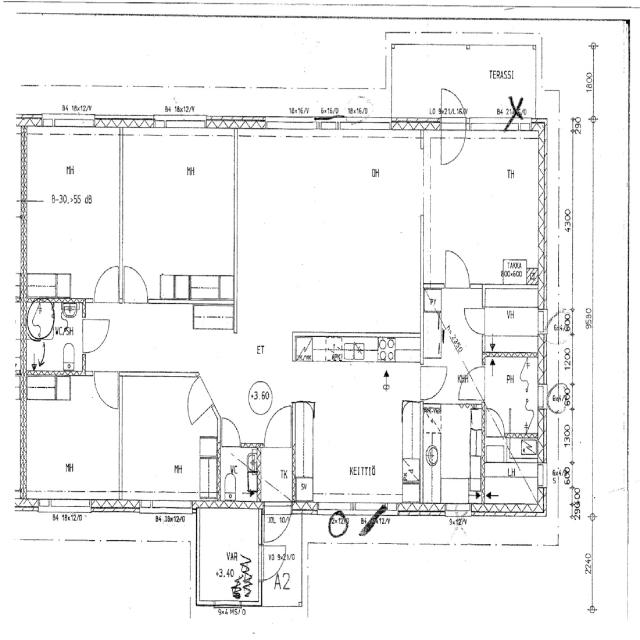door: (261, 400, 296, 452), (184, 372, 214, 426), (441, 245, 473, 291), (80, 313, 113, 357), (91, 260, 121, 306), (439, 116, 466, 167), (262, 501, 292, 544), (92, 368, 121, 412), (419, 362, 450, 401), (122, 261, 150, 304), (439, 84, 467, 122), (260, 542, 286, 582), (218, 412, 242, 450), (445, 505, 471, 539), (462, 303, 487, 336)
window: (265, 112, 317, 134), (38, 494, 90, 514), (468, 116, 509, 141), (159, 115, 203, 136), (49, 115, 94, 135), (445, 505, 472, 537), (339, 117, 392, 131)
zone: (234, 124, 423, 330), (295, 335, 420, 506), (119, 129, 238, 302), (423, 122, 544, 286), (22, 124, 122, 300), (118, 376, 219, 498), (23, 373, 120, 500), (485, 351, 543, 509), (422, 286, 488, 400), (422, 402, 484, 508), (195, 506, 262, 604), (24, 296, 84, 374), (482, 286, 541, 352), (218, 446, 260, 504), (546, 326, 575, 408), (258, 446, 296, 502), (294, 475, 314, 505)
